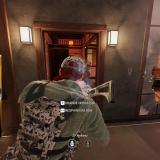Character: (2, 54, 112, 160), (82, 60, 91, 85)
Head: (58, 56, 85, 82), (84, 61, 88, 66)
